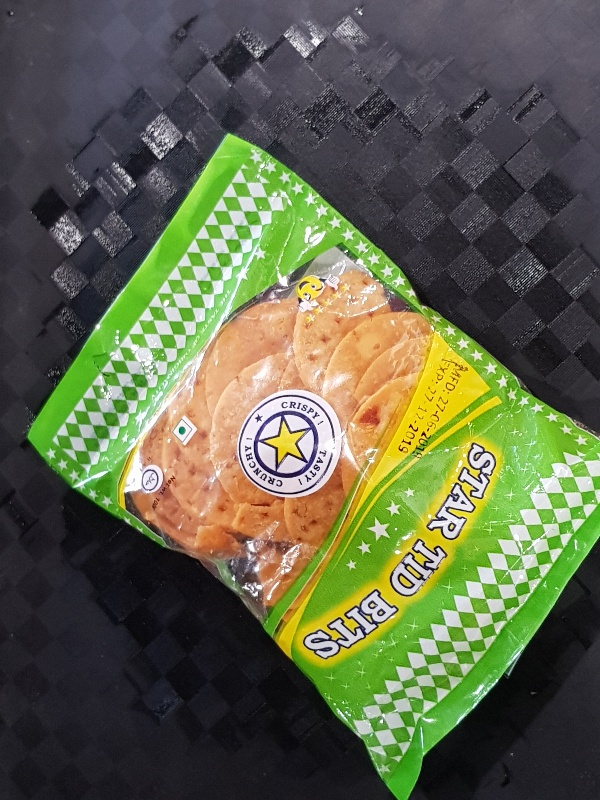Star Tidbits 'O' Ring: (26, 132, 599, 800)
